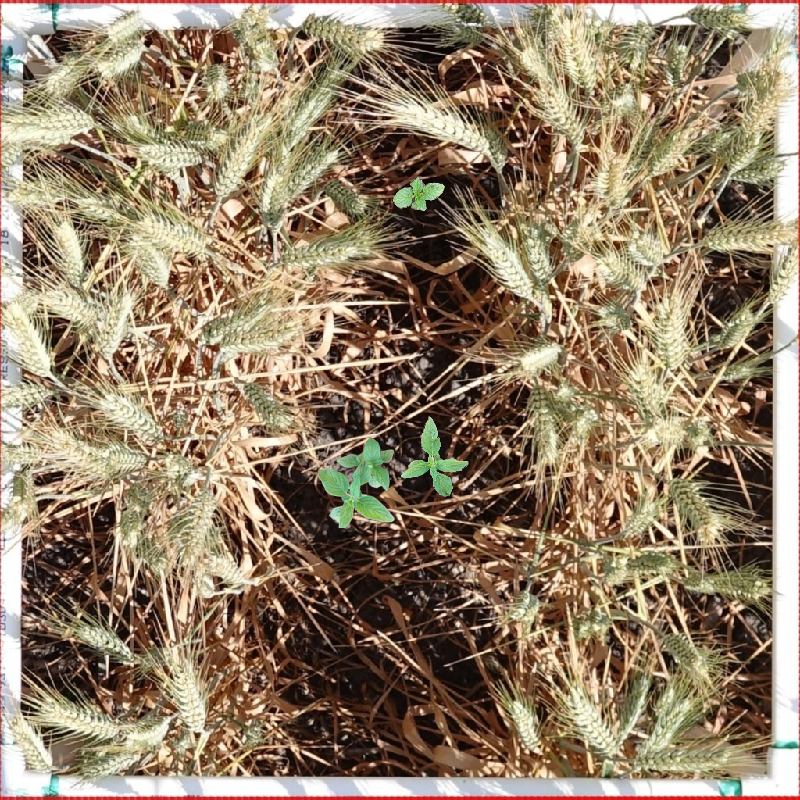spikelet: (384, 92, 512, 170), (279, 57, 354, 144), (208, 108, 276, 203), (469, 217, 537, 304), (559, 678, 625, 761), (271, 226, 381, 275), (696, 209, 798, 259), (2, 100, 100, 151), (1, 295, 60, 379), (34, 688, 124, 742), (634, 689, 702, 760), (211, 311, 307, 361), (684, 556, 777, 607), (92, 383, 170, 443), (194, 296, 282, 348), (549, 8, 602, 94), (164, 648, 213, 741), (668, 473, 730, 545), (529, 76, 590, 149), (295, 12, 392, 57), (170, 481, 222, 564), (135, 208, 216, 260), (281, 141, 345, 205), (637, 737, 739, 777), (647, 287, 695, 371), (41, 424, 113, 480), (1, 707, 57, 778), (67, 614, 141, 667), (254, 139, 296, 231), (654, 623, 718, 683), (235, 374, 298, 432), (524, 382, 566, 468), (35, 281, 107, 331), (92, 283, 138, 361), (47, 213, 93, 288), (588, 140, 635, 211), (501, 690, 550, 757), (124, 228, 175, 292), (90, 33, 153, 84), (518, 218, 560, 293), (5, 168, 72, 214), (622, 356, 671, 418), (72, 187, 142, 230), (644, 121, 695, 180), (710, 297, 763, 353), (590, 244, 648, 295), (132, 136, 205, 174), (620, 223, 677, 271), (760, 239, 799, 309), (510, 332, 569, 378), (618, 540, 681, 583), (615, 489, 669, 539), (38, 49, 92, 99), (724, 148, 791, 188), (118, 707, 175, 754), (110, 491, 153, 551), (471, 116, 514, 176), (171, 111, 233, 152), (108, 107, 169, 148), (560, 400, 603, 458), (320, 173, 375, 218), (638, 407, 691, 453), (1, 372, 59, 414), (76, 745, 143, 781), (200, 545, 252, 590), (92, 436, 150, 476), (615, 15, 656, 71), (558, 211, 600, 265), (737, 88, 782, 137), (513, 37, 557, 87), (730, 51, 773, 102), (684, 1, 744, 37), (100, 7, 151, 47), (599, 77, 643, 122), (708, 354, 763, 390), (570, 601, 616, 644), (502, 584, 546, 628), (591, 296, 637, 338), (243, 31, 285, 77), (1, 435, 48, 476), (661, 37, 694, 94), (197, 56, 235, 105), (681, 410, 719, 458), (158, 446, 201, 485), (595, 551, 635, 589), (234, 712, 273, 750), (441, 1, 495, 27), (442, 26, 489, 50), (1, 497, 32, 527)
weed: (318, 437, 395, 528), (397, 417, 470, 509), (390, 169, 446, 221)
